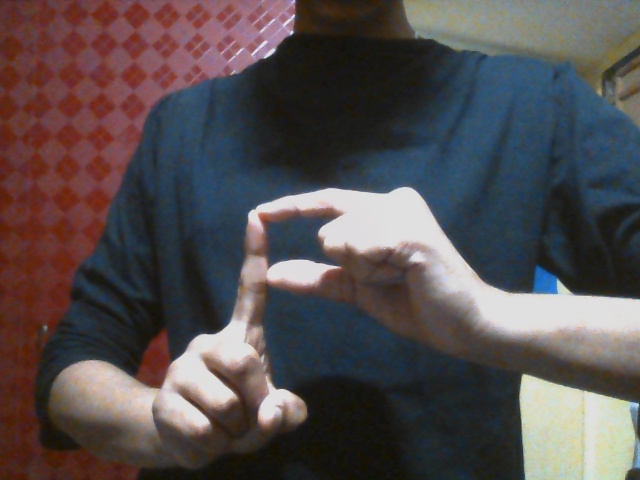P: (177, 183, 466, 458)
